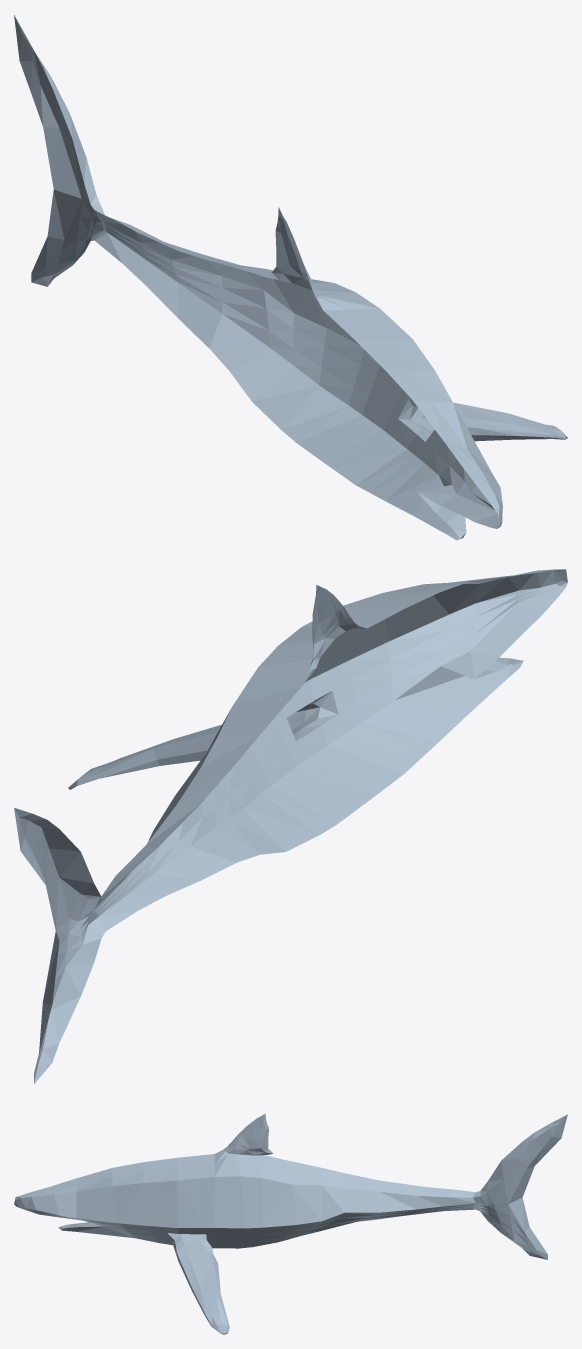
Rendered from shark.dae.
3 renders of one model, top to bottom at view 1: azimuth 30°, elevation 25°; view 2: azimuth 150°, elevation 25°; view 3: azimuth 270°, elevation 25°, orthographic. The views are drawn at different scales.
Parts seen in each view (by area): view 1: shark; view 2: shark; view 3: shark.
Part boxes in pixels (box(x1,y1,x2,y2)): shark: box(14, 15, 567, 540); shark: box(14, 569, 567, 1083); shark: box(14, 1113, 567, 1334).
Bounding box in the file's own units: 2.87 × 9.63 × 2.91.
